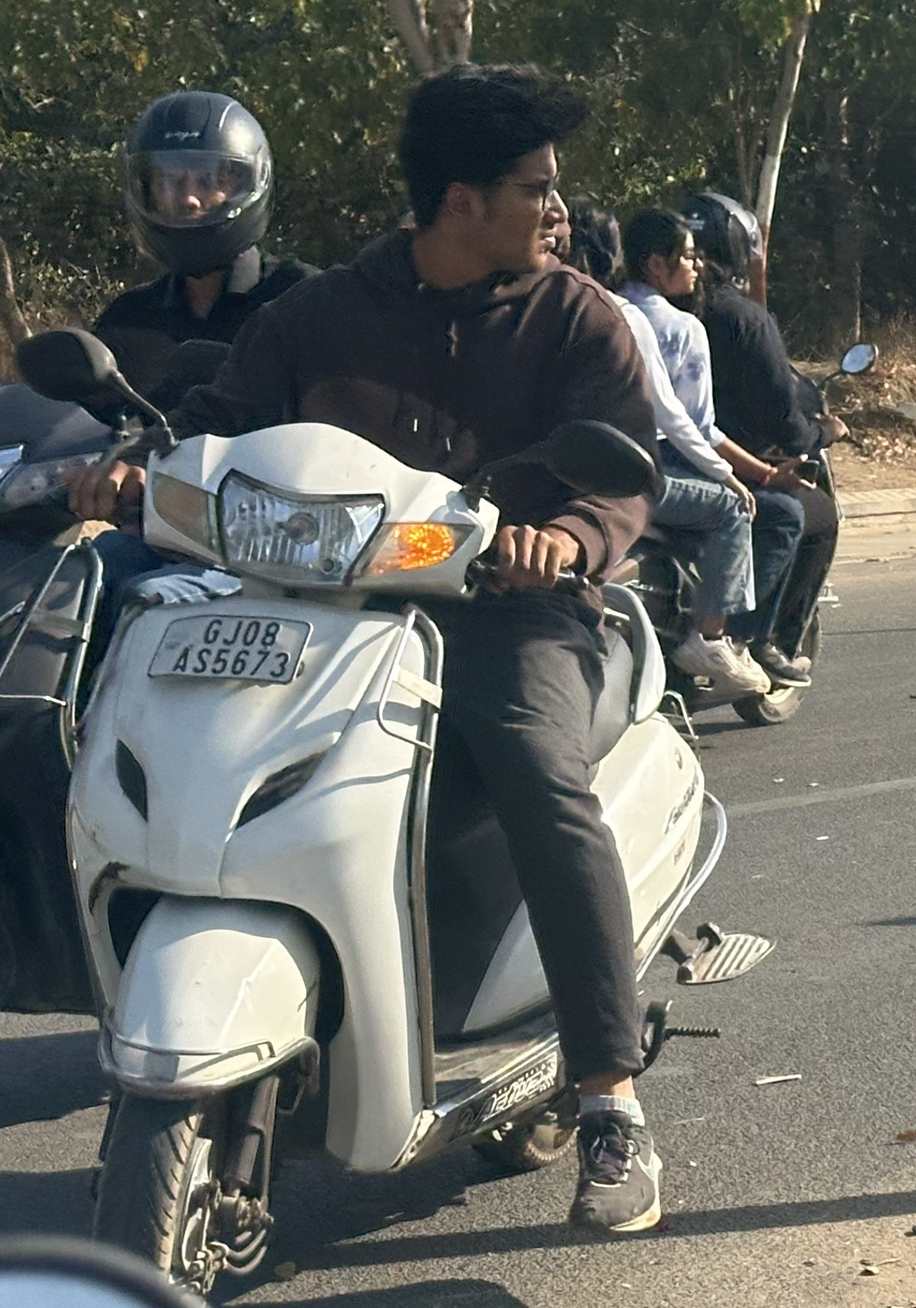BikeWithRider: (0, 49, 790, 1306), (576, 177, 889, 739)
Helmet: (101, 76, 292, 287), (659, 179, 779, 314)
NoHelmet: (370, 58, 591, 290), (607, 197, 717, 315)
